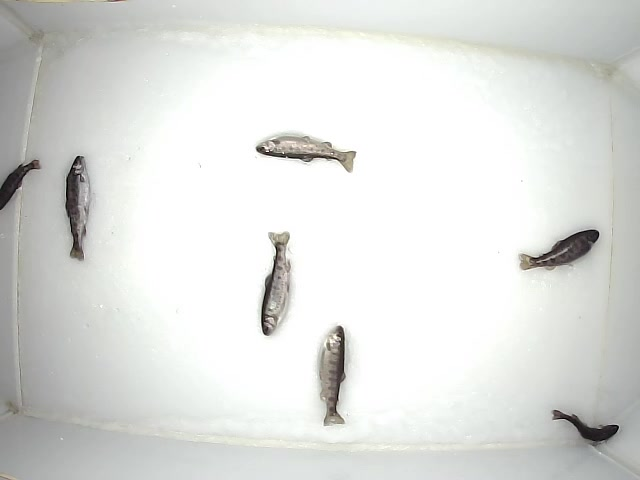fish: (254, 132, 357, 175), (517, 226, 600, 272), (314, 323, 349, 427), (260, 231, 293, 338), (550, 403, 622, 447), (65, 154, 94, 262), (1, 158, 41, 214)
